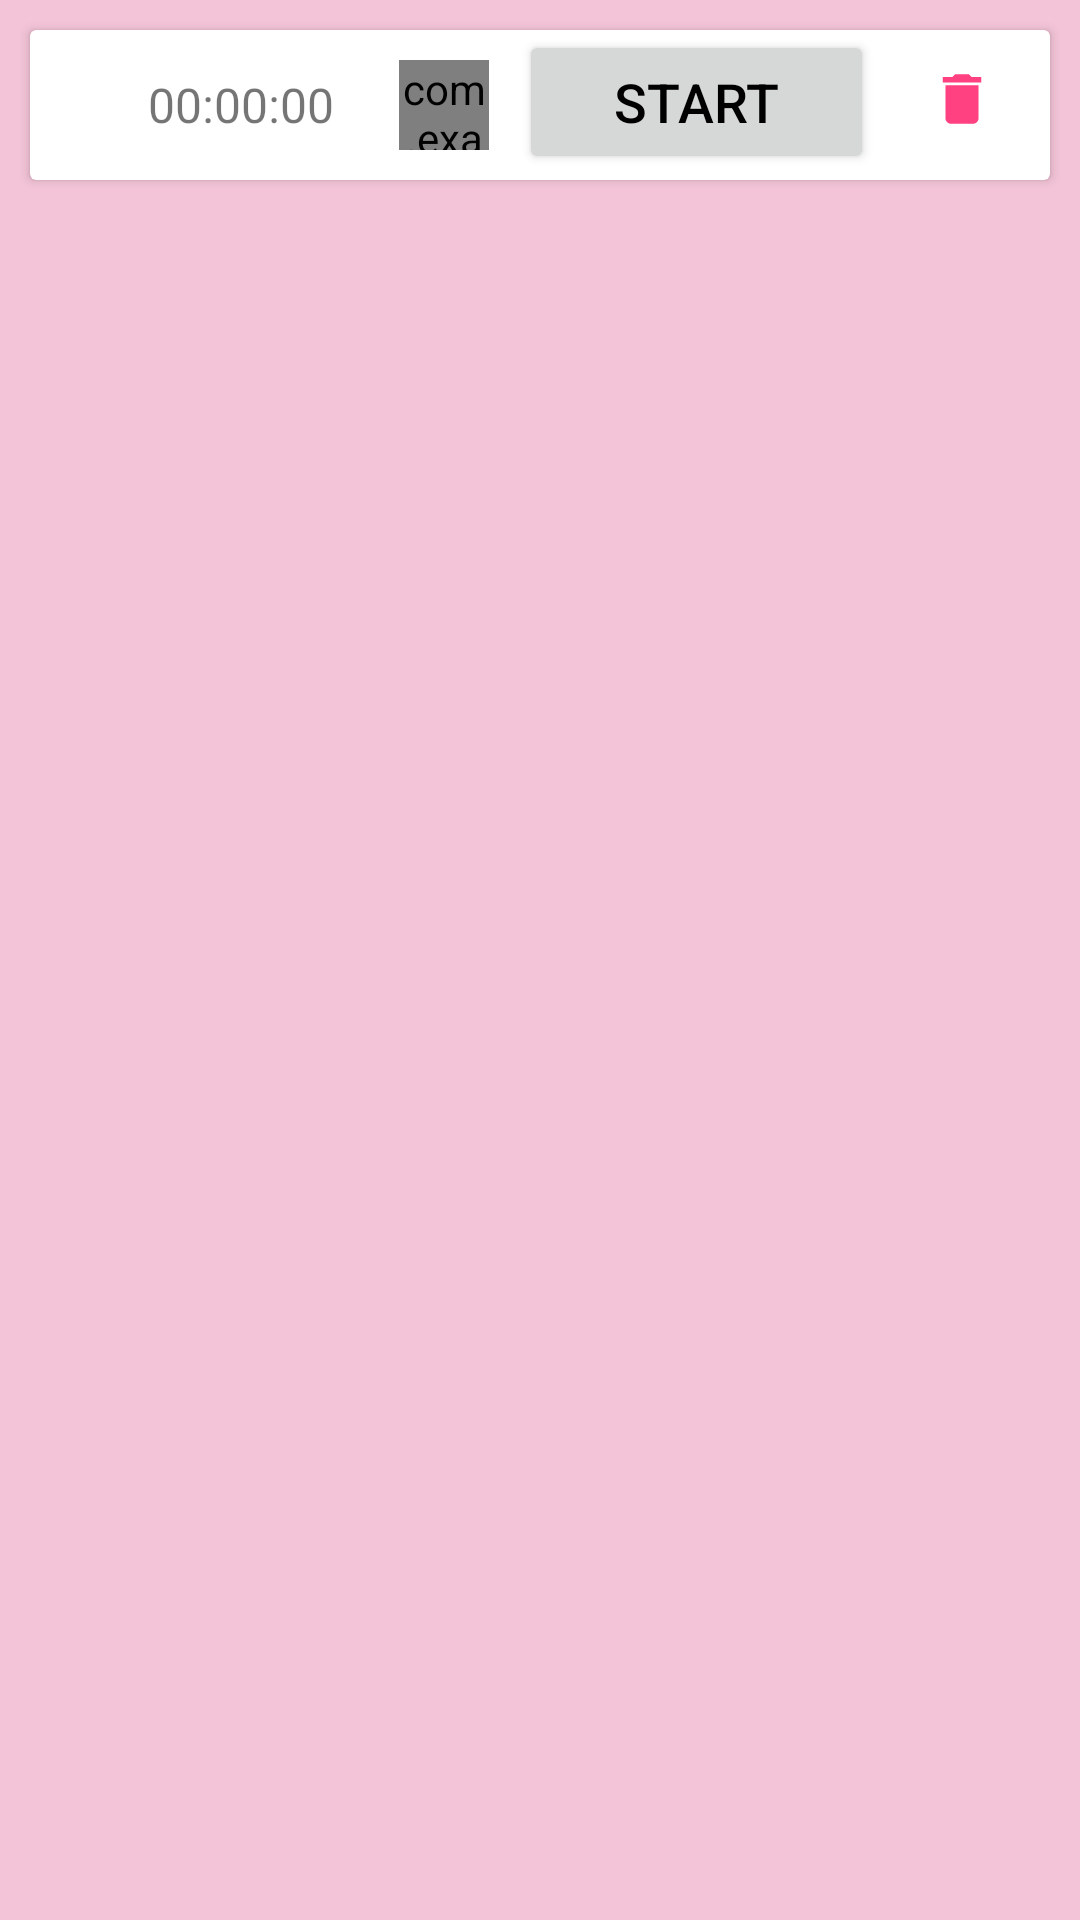

Point at icon controls on the screen. Image size 1080px×1920px, points as point (x, y).
delete: point (962, 99)
